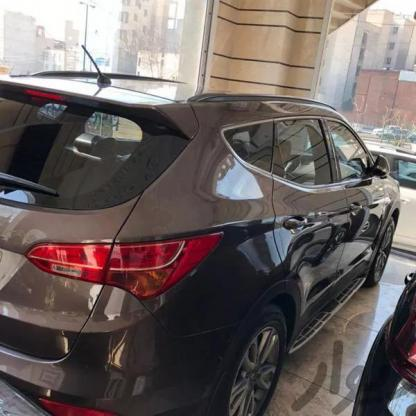Car: (0, 59, 416, 416), (320, 263, 416, 416), (340, 152, 416, 260)
